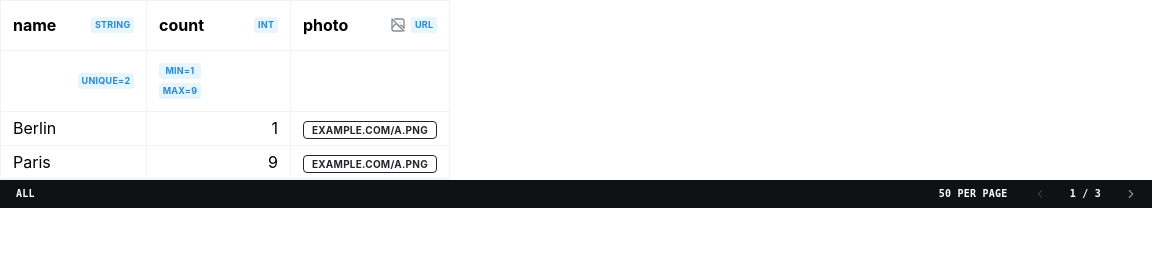
Scenario: PropertesTable › does not sort when the photo toggle is clicked or activated with Enter
Click the button named "Show images" at (398, 25), box [389,16,407,34]
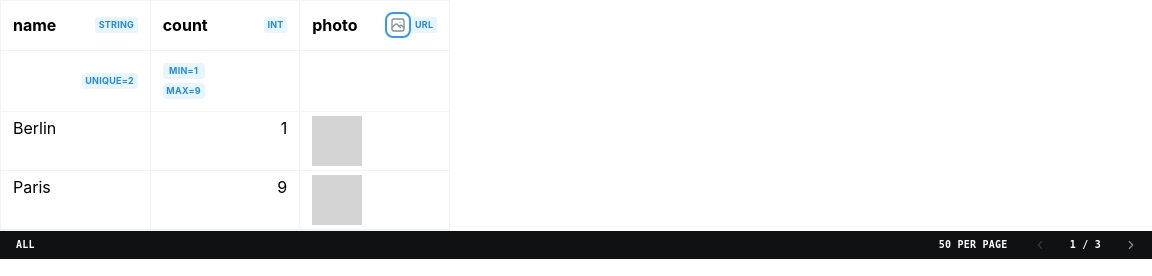
Result: the button named "Show links" is shown at [389,16,407,34]
Press Enter
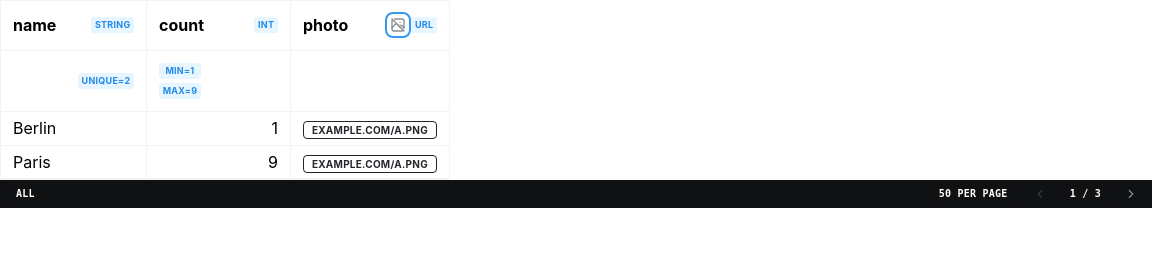
Result: the button named "Show images" is shown at [389,16,407,34]
